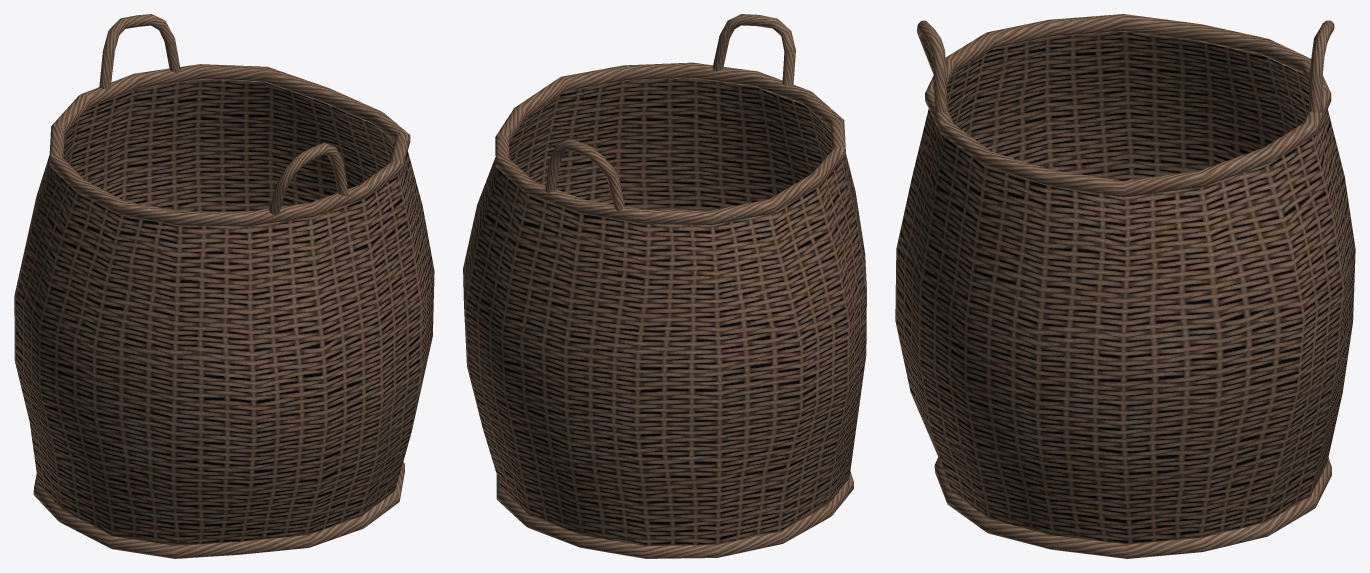
3 renders of one model, left to right at view 1: azimuth 30°, elevation 25°; view 2: azimuth 150°, elevation 25°; view 3: azimuth 270°, elevation 25°, orthographic. The views are drawn at different scales.
Parts seen in each view (by area): view 1: Wicker_basket_01; view 2: Wicker_basket_01; view 3: Wicker_basket_01.
Boxes of the visible parts, <box> form: Wicker_basket_01: <box>14,14,434,558</box>; Wicker_basket_01: <box>463,14,866,558</box>; Wicker_basket_01: <box>895,14,1355,558</box>.
Bounding box in the file's own units: 58.92 × 62.79 × 57.96.
2 materials, 2 textured.
